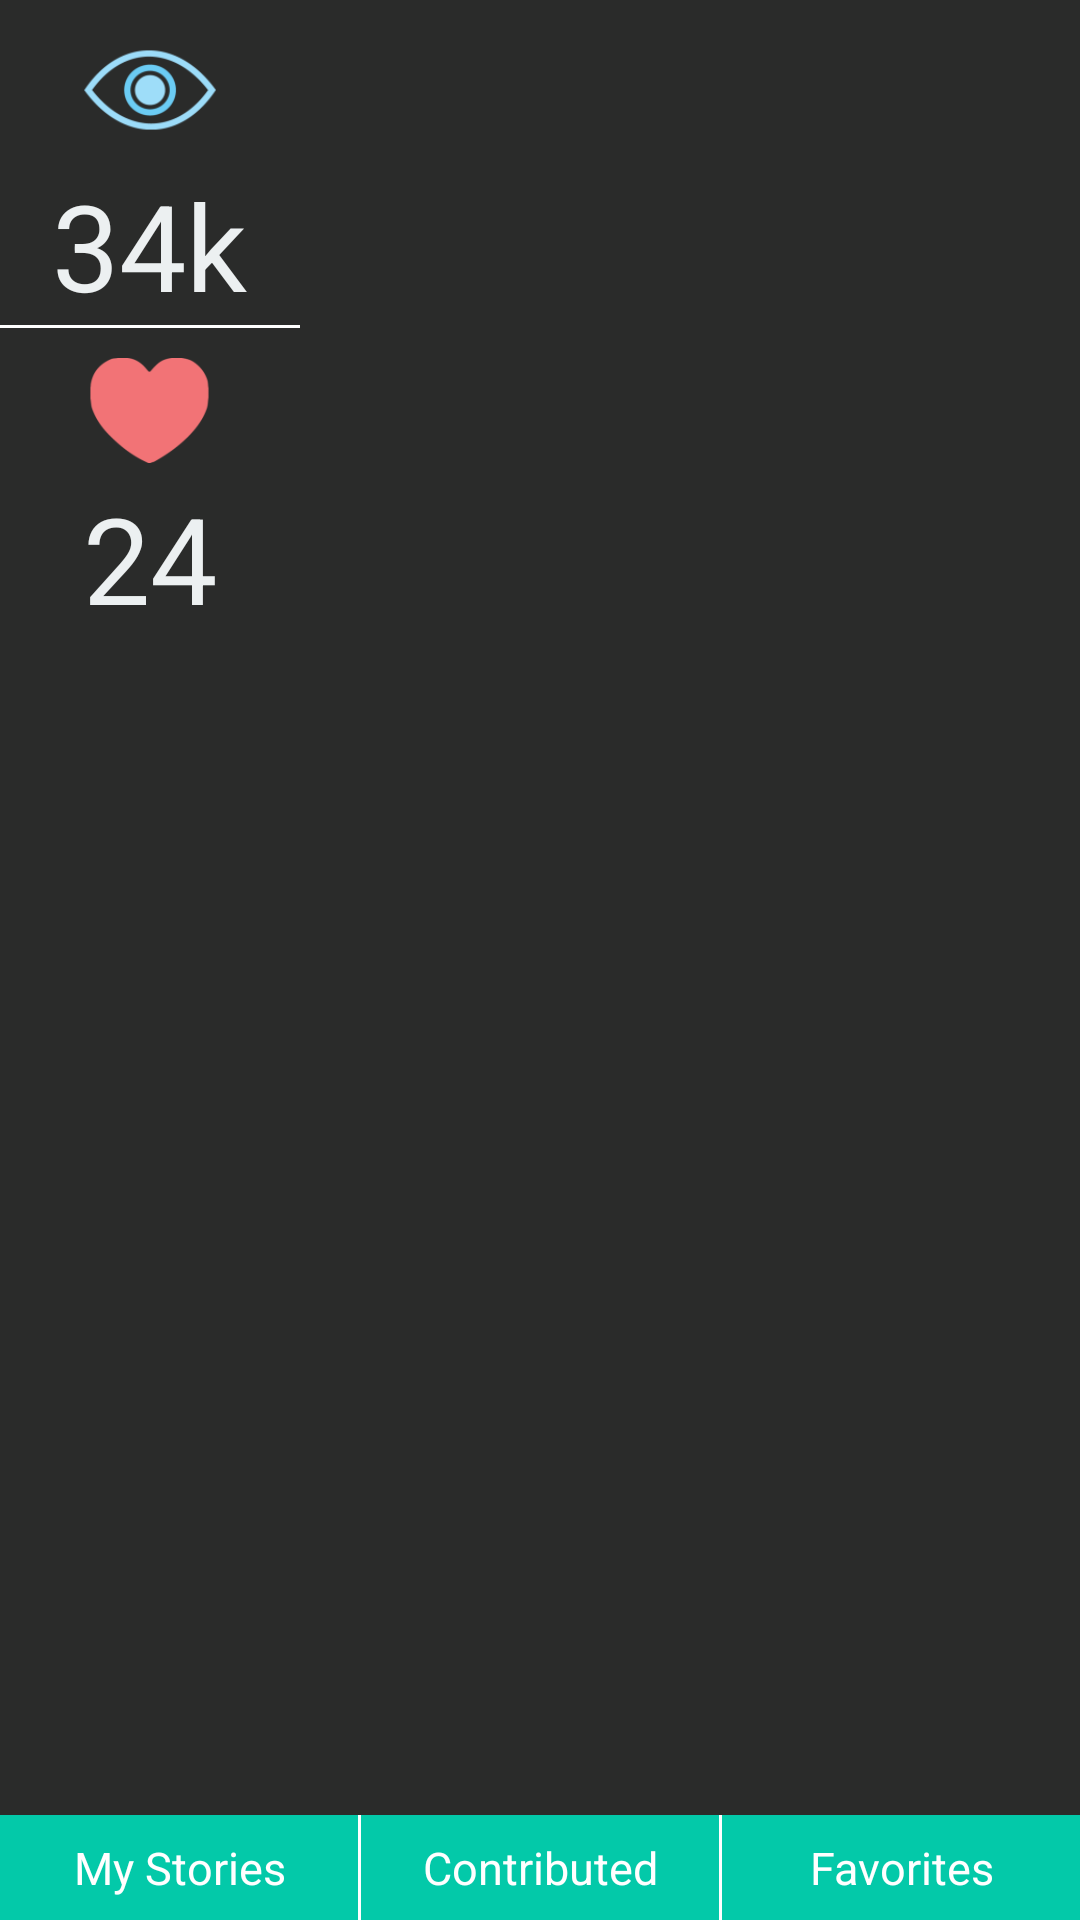

Icons on this 1080px×1920px Android screen, each with the point to tap as (x,y):
heart: (149,410)
views: (150,90)
